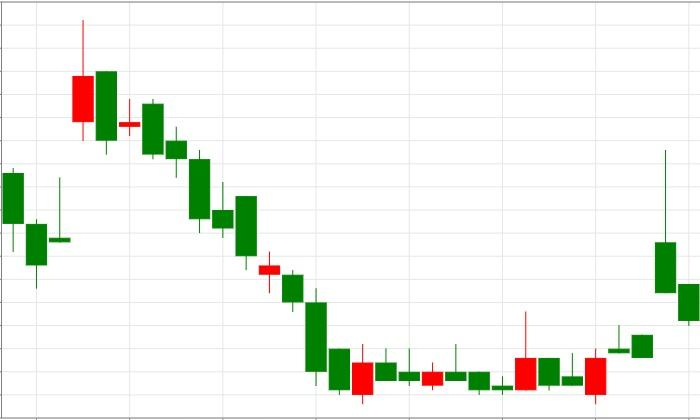bullish_engulfing_rise: (71, 20, 374, 404)
shooting_star_fall: (584, 149, 676, 405)
